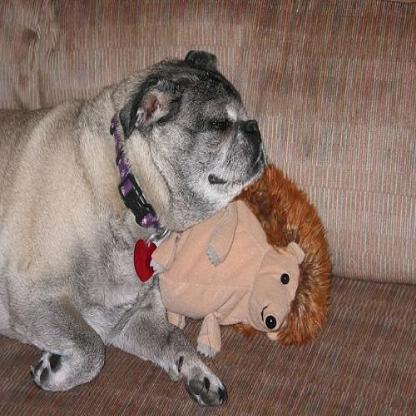pug: (0, 49, 263, 402)
